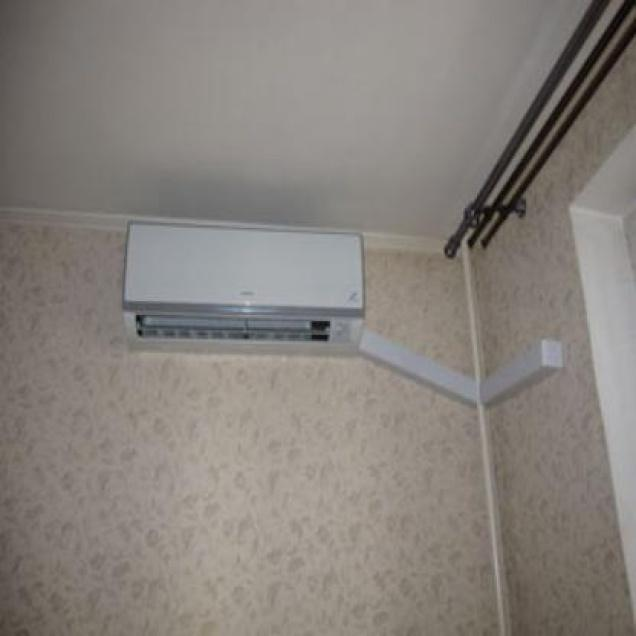AC: (120, 218, 365, 357)
